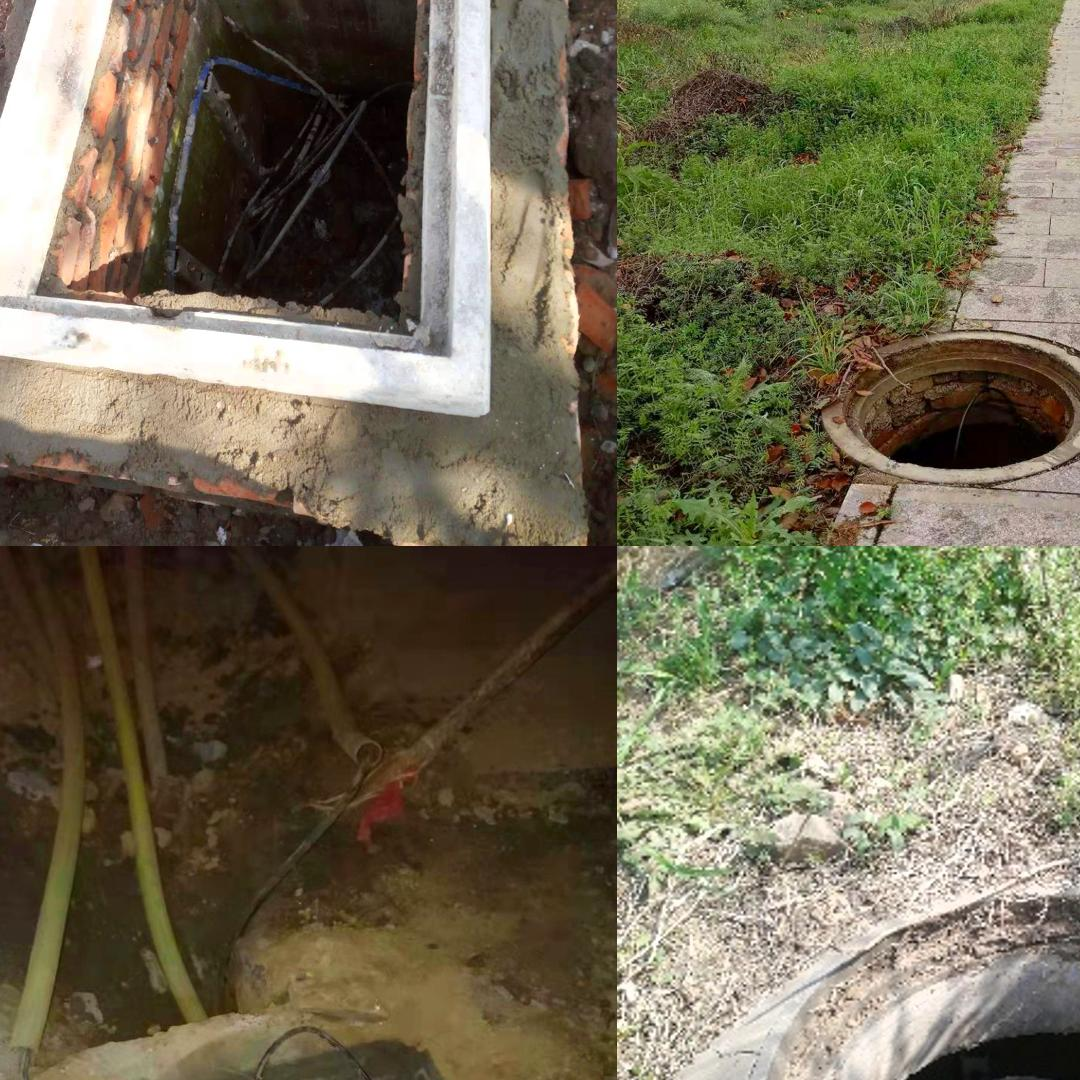lose: (0, 0, 491, 416), (741, 881, 1080, 1080), (63, 992, 576, 1080), (819, 329, 1080, 482)
